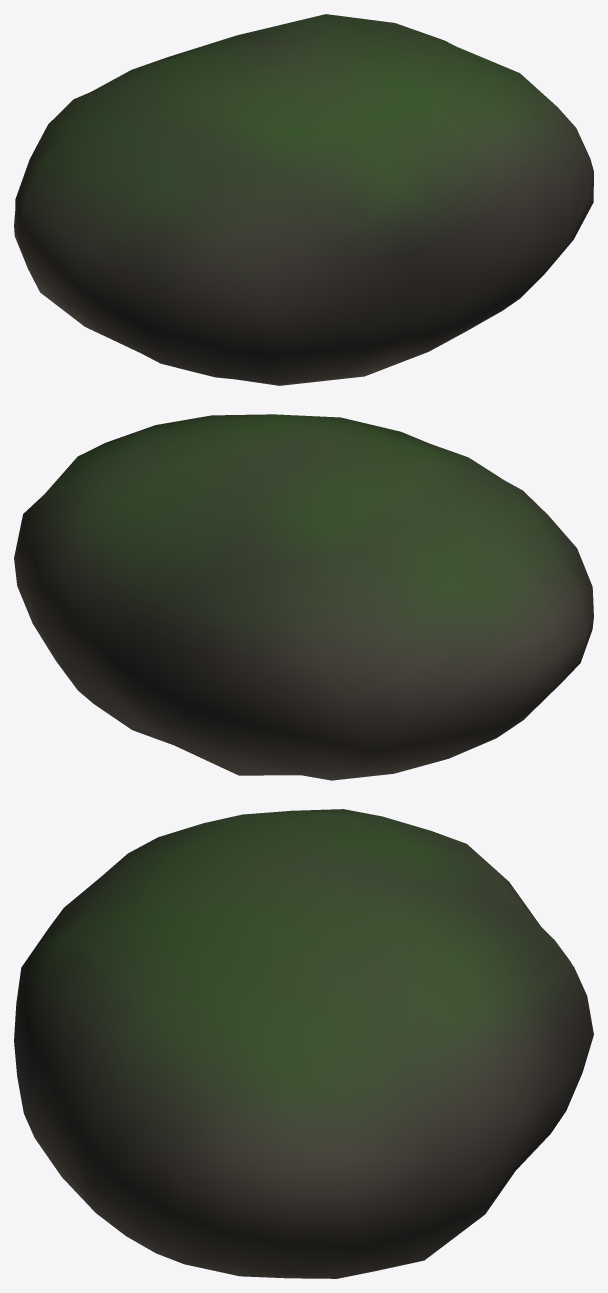
The model's file is pebble_1.glb.
3 views of the same model, one above another, from view 1: azimuth 30°, elevation 25°; view 2: azimuth 150°, elevation 25°; view 3: azimuth 270°, elevation 25° (orthographic). The views are drawn at different scales.
Parts seen in each view (by area): view 1: pebble_1; view 2: pebble_1; view 3: pebble_1.
Part boxes in pixels (x1=…): pebble_1: x1=14, y1=14, x2=593, y2=385; pebble_1: x1=14, y1=414, x2=593, y2=780; pebble_1: x1=14, y1=809, x2=593, y2=1278.
Bounding box in the file's own units: 0.4399 × 0.2368 × 0.3549.
